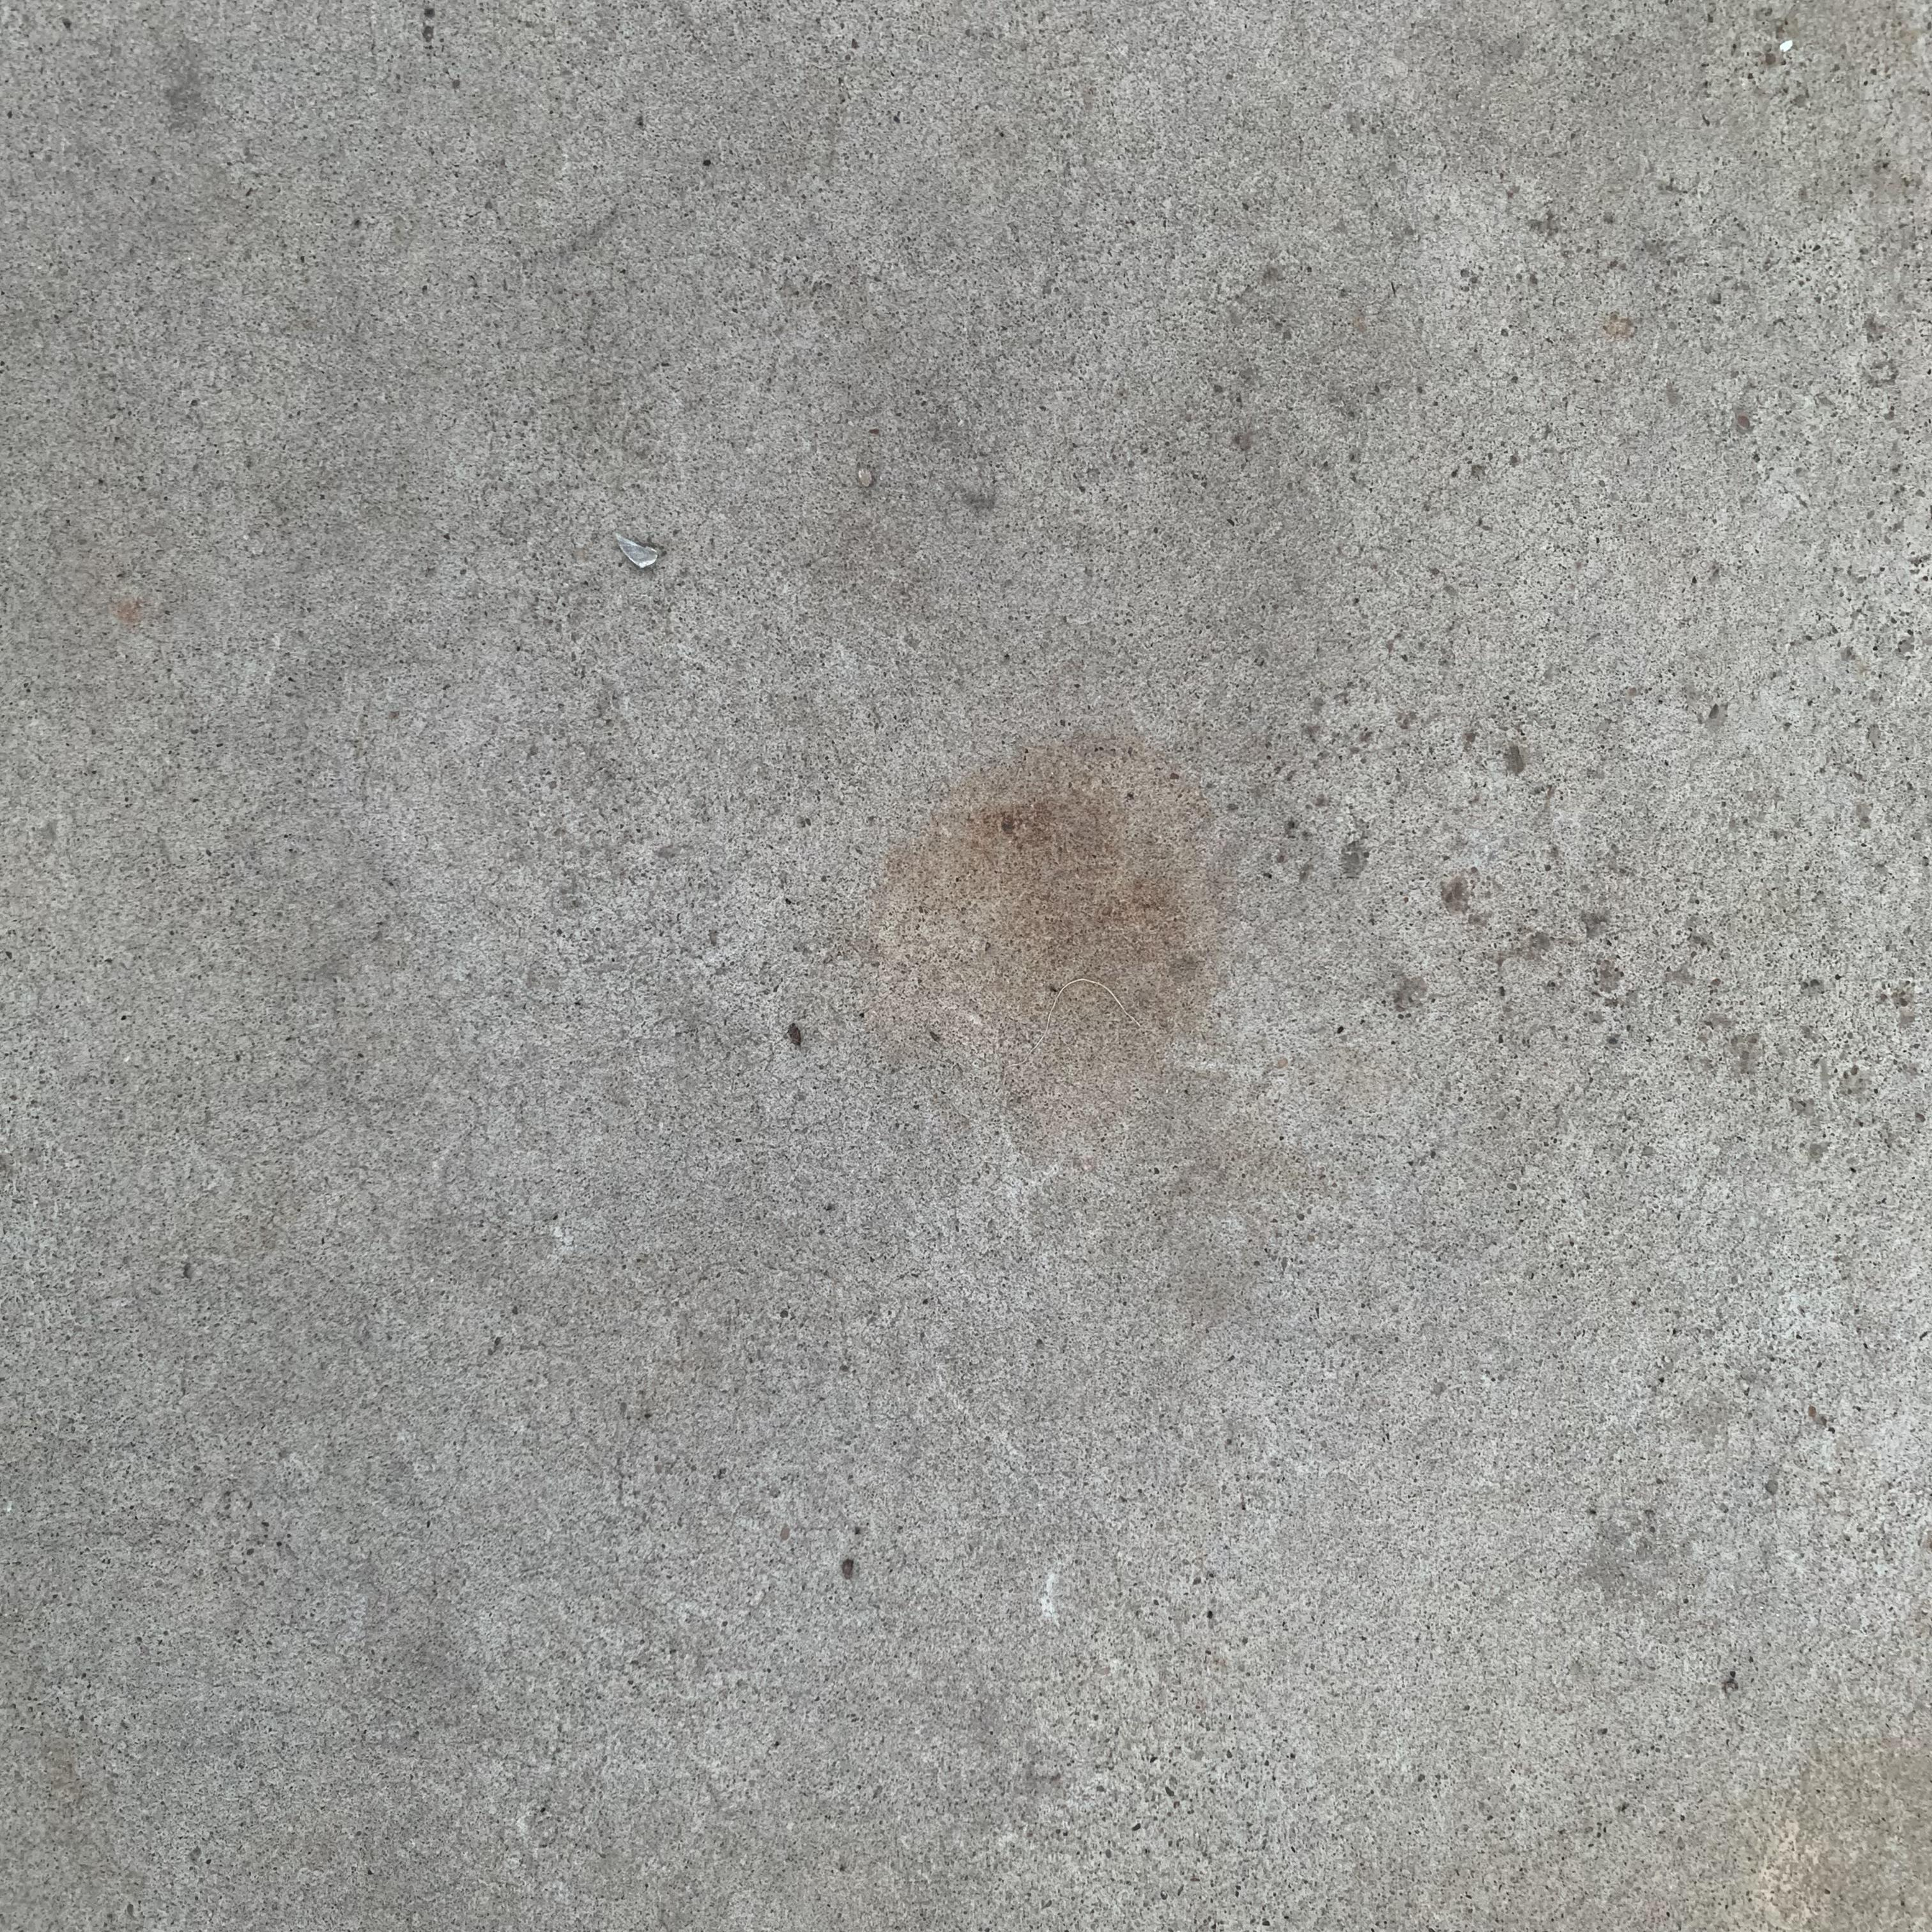grey spot: (888, 784, 1214, 1143)
